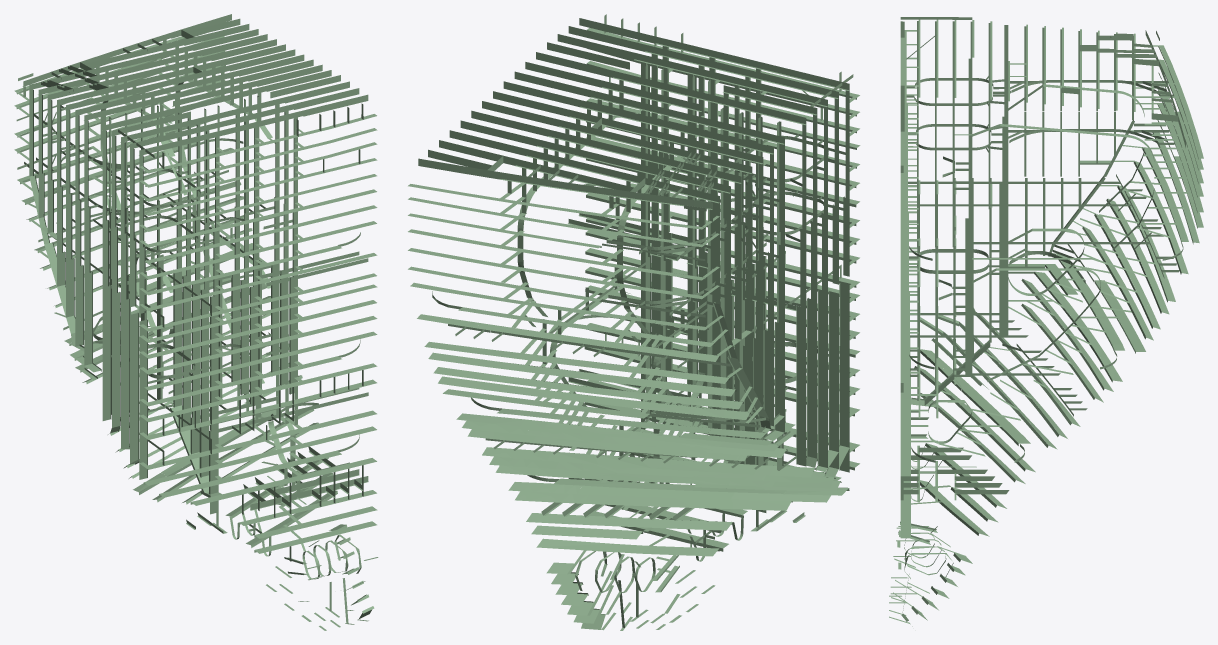
File: NO_1_DIESEL_OIL_TK_PS.glb
The picture shows the model from 3 angles, left to right: view 1: azimuth 30°, elevation 25°; view 2: azimuth 150°, elevation 25°; view 3: azimuth 270°, elevation 25°; orthographic projection. The views are drawn at different scales.
Parts seen in each view (by area): view 1: ST_UDxEPRPxDL14xWeb_001001-IA_300x90x13x17_NVA_1993, ST_UDxEPRPxDL16xWeb_001001-IA_300x90x13x17_NVA_1993, ST_UDxEPRPxDL18xWeb_001001-IA_300x90x13x17_NVA_1993, ST_UDxEPRPxDL20xWeb_001001-IA_300x90x13x17_NVA_1993, ST_UDxEPRPxDL22xWeb_001001-IA_300x90x13x17_NVA_1993, ST_UDxEPRPxDL21xWeb_001001-IA_300x90x13x17_NVA_1993, ST_UDxEPRPxDL15xWeb_001001-IA_300x90x13x17_NVA_1993, ST_UDxEPRPxDL23xWeb_001001-IA_300x90x13x17_NVA_1993, ST_UDxEPRPxDL25xWeb_092001-IA_300x90x13x17_NVA_1993, ST_UDxEPRPxDL26xWeb_093001-IA_300x90x13x17_NVA_1993, ST_UDxEPRPxDL24xWeb_091001-IA_300x90x13x17_NVA_1993, ST_LBHDxEPRPxL41xWeb_002001-IA_518x125x11x23_NVA32_1993 (+28 smaller); view 2: ST_OuterShellxEPRPxL42A1xWeb_002002-IA_479.5x150x10x34.5_NVA, ST_OuterShellxEPRPxL39xWeb_001002-IA_569x150x10.5x24_NVA32_1, ST_OuterShellxEPRPxL48A1xWeb_003002-IA_418.5x125x10x23.5_NVA, ST_OuterShellxEPRPxL46xWeb_003002-IA_523.5x125x10x28.5_NVA32, ST_OuterShellxEPRPxL41A2xWeb_002002-IA_523.5x150x10x28.5_NVA, ST_OuterShellxEPRPxL45xWeb_004002-IA_517x125x10x22_NVA32_199, ST_OuterShellxEPRPxL42xWeb_001002-IA_520x150x10x25_NVA32_199, ST_OuterShellxEPRPxL44xWeb_001002-IA_521x125x10x26_NVA32_199, ST_OuterShellxEPRPxL50xWeb_002002-IA_414.5x125x10x19.5_NVA32, ST_OuterShellxEPRPxL49xWeb_003002-IA_417.5x125x10x22.5_NVA32, ST_OuterShellxEPRPxL40xWeb_002002-IA_570.5x150x10.5x25.5_NVA, ST_OuterShellxEPRPxL51xWeb_001002-IA_412.5x125x10x17.5_NVA32 (+40 smaller); view 3: ST_L19SectionxEPRPxWeb_012001-TW_445x11+125x12.5_NVA_1993, ST_OuterShellxEPRPxL47xWeb_002003-IA_524.5x125x10x29.5_NVA32, ST_L17SectionxEPRPxWeb_009001-TW_345x11+125x12.5_NVA_1993, ST_OuterShellxEPRPxL41xWeb_001002-IA_629x150x11.5x34_NVA32_1, ST_OuterShellxEPRPxL46xWeb_003002-IA_523.5x125x10x28.5_NVA32, ST_OuterShellxEPRPxL48xWeb_001002-IA_522x125x10x27_NVA32_199, ST_OuterShellxEPRPxL49xWeb_003002-IA_417.5x125x10x22.5_NVA32, ST_OuterShellxEPRPxL55xWeb_001002-IA_316.5x125x10x16.5_NVA32, ST_OuterShellxEPRPxL50xWeb_002002-IA_414.5x125x10x19.5_NVA32, ST_OuterShellxEPRPxL51xWeb_001002-IA_412.5x125x10x17.5_NVA32, ST_L19SectionxEPRPxWeb_008001-IA_300x90x11x16_NVA_1993, ST_OuterShellxEPRPxL53xWeb_002002-IA_360x125x10x15_NVA32_199.
Boxes of the visible parts, box(x1,y1,x2,y2) form: ST_UDxEPRPxDL14xWeb_001001-IA_300x90x13x17_NVA_1993: box(178, 110, 303, 146); ST_UDxEPRPxDL16xWeb_001001-IA_300x90x13x17_NVA_1993: box(159, 97, 284, 133); ST_UDxEPRPxDL18xWeb_001001-IA_300x90x13x17_NVA_1993: box(141, 86, 266, 121); ST_UDxEPRPxDL20xWeb_001001-IA_300x90x13x17_NVA_1993: box(123, 75, 248, 111); ST_UDxEPRPxDL22xWeb_001001-IA_300x90x13x17_NVA_1993: box(104, 65, 229, 100); ST_UDxEPRPxDL21xWeb_001001-IA_300x90x13x17_NVA_1993: box(114, 70, 238, 106); ST_UDxEPRPxDL15xWeb_001001-IA_300x90x13x17_NVA_1993: box(169, 104, 293, 139); ST_UDxEPRPxDL23xWeb_001001-IA_300x90x13x17_NVA_1993: box(95, 60, 220, 95); ST_UDxEPRPxDL25xWeb_092001-IA_300x90x13x17_NVA_1993: box(77, 50, 202, 85); ST_UDxEPRPxDL26xWeb_093001-IA_300x90x13x17_NVA_1993: box(68, 45, 193, 80); ST_UDxEPRPxDL24xWeb_091001-IA_300x90x13x17_NVA_1993: box(86, 55, 211, 90); ST_LBHDxEPRPxL41xWeb_002001-IA_518x125x11x23_NVA32_1993: box(182, 459, 306, 492); ST_OuterShellxEPRPxL42A1xWeb_002002-IA_479.5x150x10x34.5_NVA: box(547, 451, 757, 474); ST_OuterShellxEPRPxL39xWeb_001002-IA_569x150x10.5x24_NVA32_1: box(584, 495, 791, 510); ST_OuterShellxEPRPxL48A1xWeb_003002-IA_418.5x125x10x23.5_NVA: box(499, 384, 696, 414); ST_OuterShellxEPRPxL46xWeb_003002-IA_523.5x125x10x28.5_NVA32: box(520, 419, 723, 446); ST_OuterShellxEPRPxL41A2xWeb_002002-IA_523.5x150x10x28.5_NVA: box(563, 470, 774, 486); ST_OuterShellxEPRPxL45xWeb_004002-IA_517x125x10x22_NVA32_199: box(526, 428, 729, 453); ST_OuterShellxEPRPxL42xWeb_001002-IA_520x150x10x25_NVA32_199: box(555, 462, 765, 480); ST_OuterShellxEPRPxL44xWeb_001002-IA_521x125x10x26_NVA32_199: box(532, 436, 736, 460); ST_OuterShellxEPRPxL50xWeb_002002-IA_414.5x125x10x19.5_NVA32: box(489, 361, 682, 390); ST_OuterShellxEPRPxL49xWeb_003002-IA_417.5x125x10x22.5_NVA32: box(495, 375, 690, 403); ST_OuterShellxEPRPxL40xWeb_002002-IA_570.5x150x10.5x25.5_NVA: box(577, 485, 734, 499); ST_OuterShellxEPRPxL51xWeb_001002-IA_412.5x125x10x17.5_NVA32: box(485, 349, 676, 377); ST_L19SectionxEPRPxWeb_012001-TW_445x11+125x12.5_NVA_1993: box(999, 204, 1008, 291); ST_OuterShellxEPRPxL47xWeb_002003-IA_524.5x125x10x29.5_NVA32: box(1069, 272, 1122, 344); ST_L17SectionxEPRPxWeb_009001-TW_345x11+125x12.5_NVA_1993: box(965, 243, 972, 330); ST_OuterShellxEPRPxL41xWeb_001002-IA_629x150x11.5x34_NVA32_1: box(962, 389, 1025, 438); ST_OuterShellxEPRPxL46xWeb_003002-IA_523.5x125x10x28.5_NVA32: box(1050, 290, 1108, 359); ST_OuterShellxEPRPxL48xWeb_001002-IA_522x125x10x27_NVA32_199: box(1094, 280, 1134, 329); ST_OuterShellxEPRPxL49xWeb_003002-IA_417.5x125x10x22.5_NVA32: box(1106, 233, 1150, 306); ST_OuterShellxEPRPxL55xWeb_001002-IA_316.5x125x10x16.5_NVA32: box(1161, 149, 1192, 220); ST_OuterShellxEPRPxL50xWeb_002002-IA_414.5x125x10x19.5_NVA32: box(1119, 217, 1159, 291); ST_OuterShellxEPRPxL51xWeb_001002-IA_412.5x125x10x17.5_NVA32: box(1129, 204, 1167, 277); ST_L19SectionxEPRPxWeb_008001-IA_300x90x11x16_NVA_1993: box(1002, 139, 1008, 204); ST_OuterShellxEPRPxL53xWeb_002002-IA_360x125x10x15_NVA32_199: box(1145, 180, 1180, 251).
Size of the model in its own units: 13 by 28.12 by 15.81.
